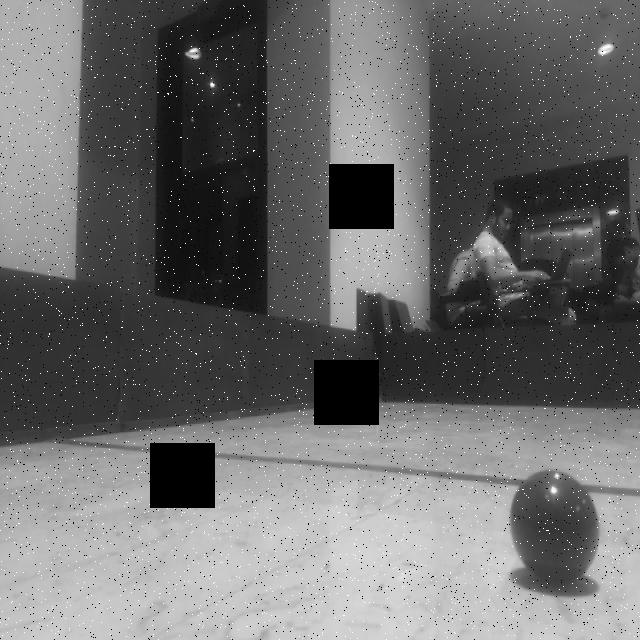ball: (508, 466, 603, 596), (345, 385, 366, 410)
